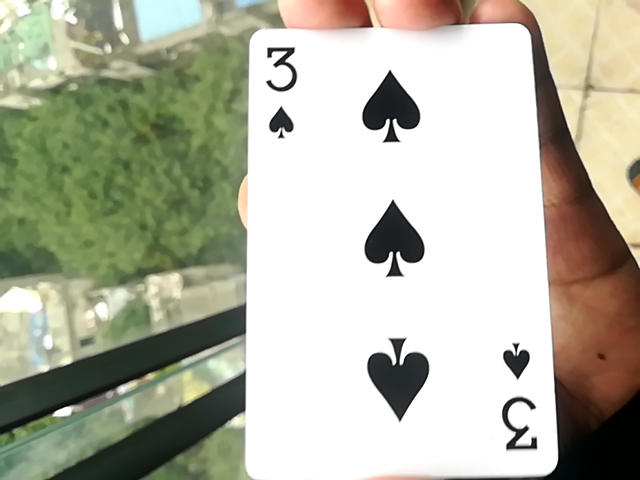ht 3: (227, 32, 565, 478)
